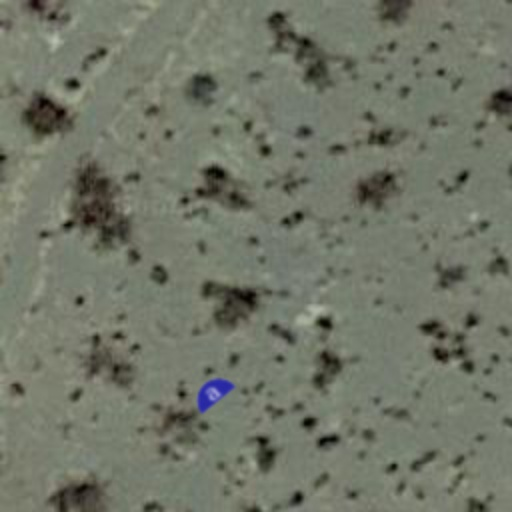semicircle: (180, 360, 244, 424)
